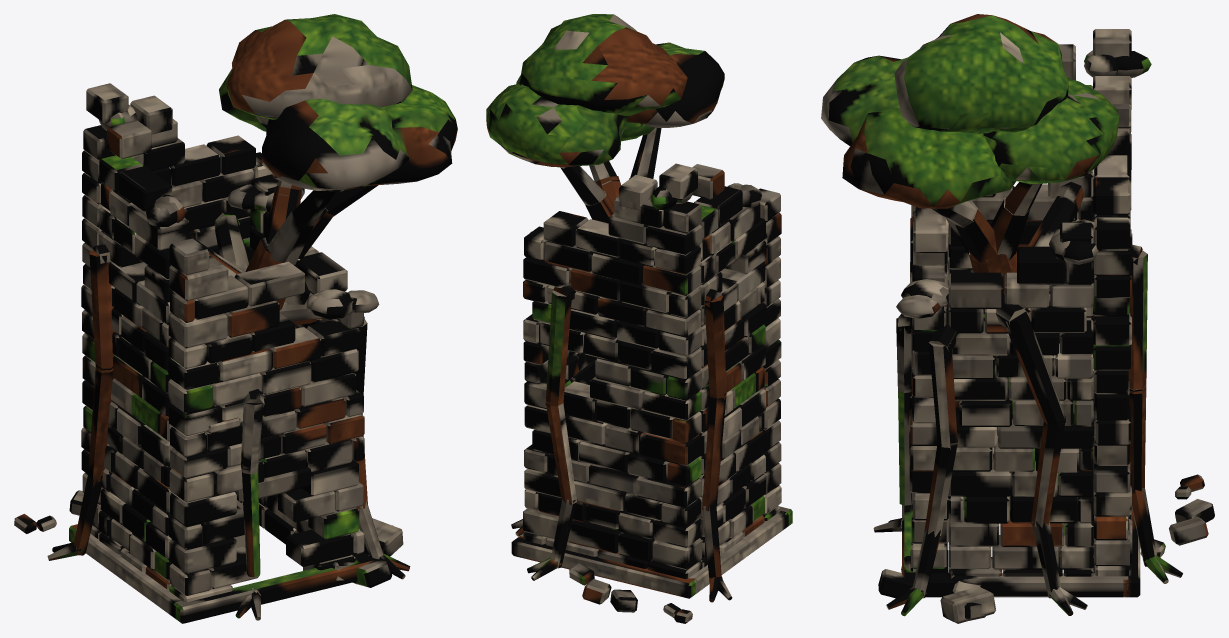
File: mapkit_tower_forest.fbx
The picture shows the model from 3 angles, left to right: view 1: azimuth 30°, elevation 25°; view 2: azimuth 150°, elevation 25°; view 3: azimuth 270°, elevation 25°; orthographic projection. The views are drawn at different scales.
Parts seen in each view (by area): view 1: Body; view 2: Body; view 3: Body.
Part boxes in pixels (x1,y1,x2,y2): Body: (14, 14, 457, 623); Body: (486, 14, 792, 623); Body: (821, 14, 1214, 623).
Size of the model in its own units: 1582 by 2604 by 1620.
1 material, 1 textured.
